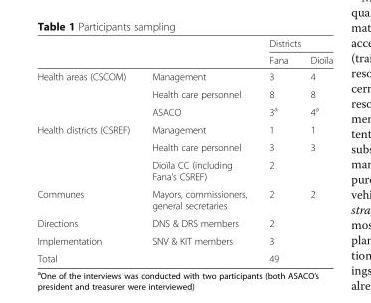table: (36, 37, 332, 263)
table column: (140, 37, 257, 263), (36, 37, 140, 263), (257, 37, 298, 263), (298, 37, 332, 263)
table column header: (36, 37, 332, 67)
table row: (36, 155, 332, 184), (36, 184, 332, 213), (36, 101, 332, 120), (36, 67, 332, 85), (36, 120, 332, 138), (36, 213, 332, 231), (36, 231, 332, 249), (36, 138, 332, 155), (36, 51, 332, 67), (36, 85, 332, 101), (36, 37, 332, 51), (36, 249, 332, 263)
table spanning cell: (36, 120, 140, 184), (36, 67, 140, 120), (36, 249, 257, 263), (257, 155, 332, 184), (257, 213, 332, 231), (257, 231, 332, 249), (257, 37, 332, 51), (257, 249, 332, 263)
